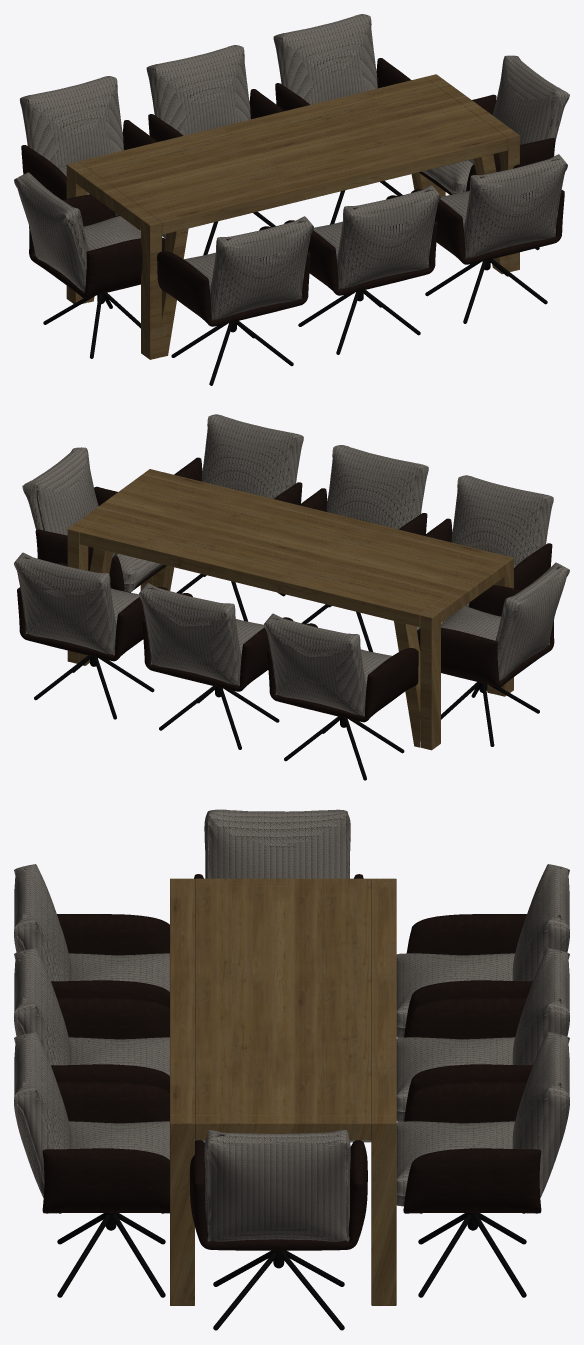
File: con_meeting_3.glb
3 views of the same model, one above another, from view 1: azimuth 30°, elevation 25°; view 2: azimuth 150°, elevation 25°; view 3: azimuth 270°, elevation 25° (orthographic). The views are drawn at different scales.
Parts seen in each view (by area): view 1: Object002_Material #2_0; view 2: Object002_Material #2_0; view 3: Object002_Material #2_0.
Part boxes in pixels (x1,y1,x2,y2): Object002_Material #2_0: (14,14,569,385); Object002_Material #2_0: (14,414,569,780); Object002_Material #2_0: (14,809,569,1330).
Size of the model in its own units: 3.39 by 0.9996 by 2.39.
4 materials, 3 textured.
